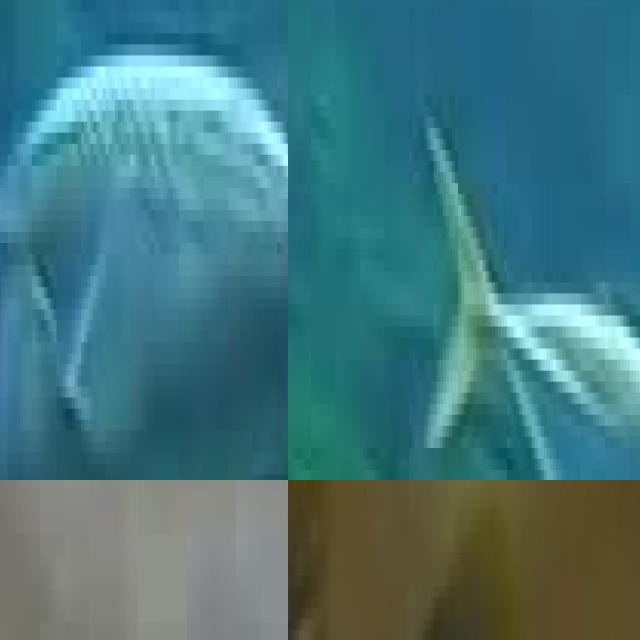fish: (0, 0, 288, 480), (288, 480, 538, 640)
